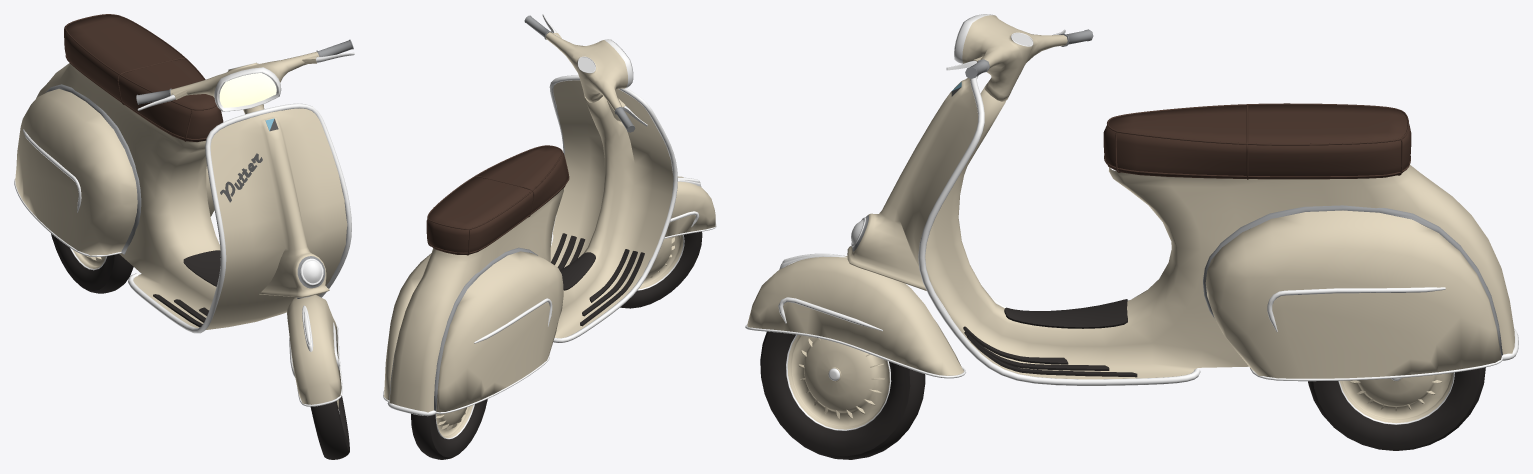
Rendered from scooter.glb.
3 views of the same model, side by side, from view 1: azimuth 30°, elevation 25°; view 2: azimuth 150°, elevation 25°; view 3: azimuth 270°, elevation 25° (orthographic). The views are drawn at different scales.
Parts seen in each view (by area): view 1: Paint-material (×4), Leather-material, Chrome-material (×5), Tire-material (×3), Caulk-material (×2), Headlight-material, Leather_Piping-material, Badge_2-material; view 2: Paint-material (×6), Leather-material, Tire-material (×3), Chrome-material (×3), Caulk-material (×2), Leather_Piping-material; view 3: Paint-material (×6), Leather-material, Tire-material (×3), Chrome-material (×3), Leather_Piping-material, Caulk-material.
Part boxes in pixels (x1=…): Paint-material (×4): x1=15, y1=51, x2=347, y2=404; Leather-material: x1=64, y1=15, x2=222, y2=141; Chrome-material (×5): x1=14, y1=52, x2=354, y2=406; Tire-material (×3): x1=51, y1=233, x2=349, y2=459; Caulk-material (×2): x1=46, y1=39, x2=353, y2=254; Headlight-material: x1=219, y1=73, x2=276, y2=107; Leather_Piping-material: x1=64, y1=14, x2=223, y2=141; Badge_2-material: x1=220, y1=119, x2=278, y2=202; Paint-material (×6): x1=384, y1=32, x2=715, y2=438; Leather-material: x1=427, y1=146, x2=568, y2=254; Tire-material (×3): x1=411, y1=231, x2=702, y2=459; Chrome-material (×3): x1=383, y1=14, x2=677, y2=416; Caulk-material (×2): x1=389, y1=15, x2=635, y2=411; Leather_Piping-material: x1=426, y1=145, x2=569, y2=255; Paint-material (×6): x1=747, y1=15, x2=1514, y2=429; Leather-material: x1=1103, y1=104, x2=1411, y2=179; Tire-material (×3): x1=760, y1=299, x2=1485, y2=459; Chrome-material (×3): x1=745, y1=75, x2=1518, y2=385; Leather_Piping-material: x1=1104, y1=103, x2=1410, y2=179; Caulk-material: x1=1203, y1=205, x2=1502, y2=356.
Size of the model in its own units: 0.5647 by 1.08 by 1.75.
